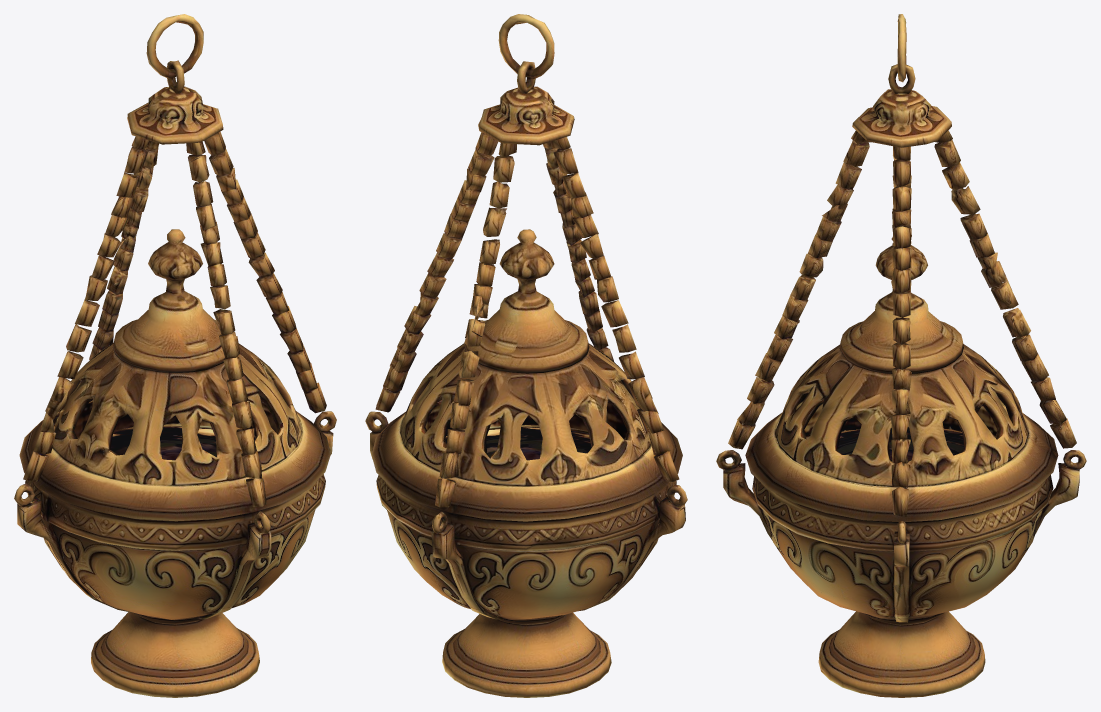
The model's file is censer.glb.
3 views of the same model, side by side, from view 1: azimuth 30°, elevation 25°; view 2: azimuth 150°, elevation 25°; view 3: azimuth 270°, elevation 25° (orthographic).
Size of the model in its own units: 0.5195 by 1 by 0.5215.
Materials: 1 (1 with a texture image).
